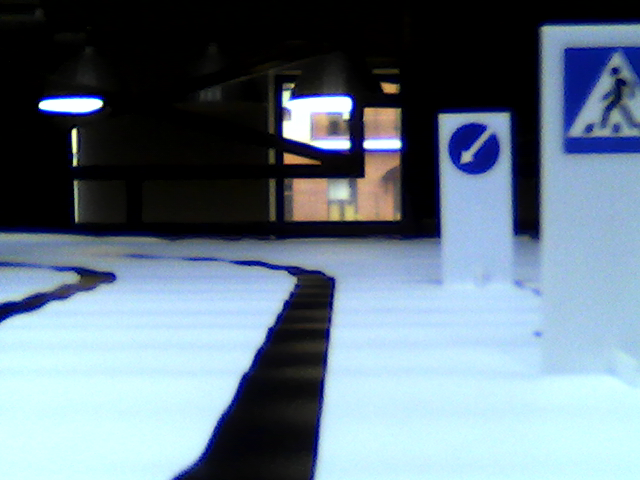pesh: (561, 43, 635, 153)
prep: (446, 122, 499, 174)
